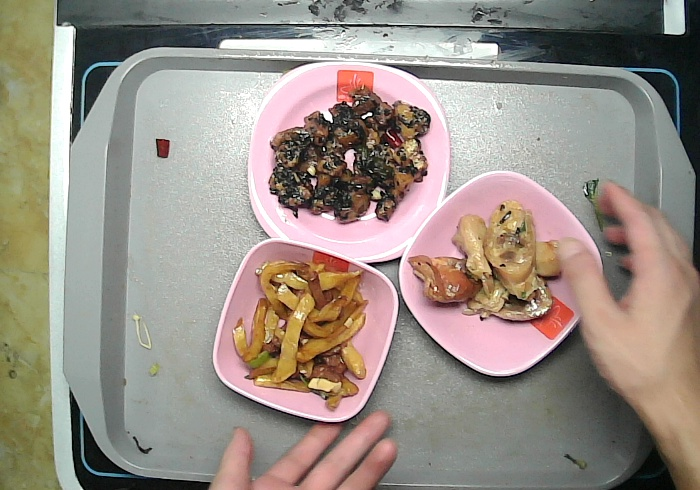SHKJ-Fen_Se_Cai_Die: (396, 168, 607, 379)
SHKJ-Fen_Se_Si_Fang_Cai_Die: (244, 59, 453, 266)
SHKJ-Fen_Se_Xiao_Fang_Die: (211, 236, 399, 422)
